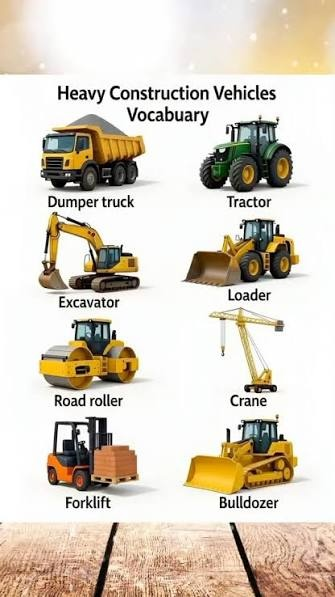crane: (198, 303, 284, 395)
excavator: (21, 208, 149, 309)
machinery: (187, 407, 319, 518), (27, 313, 156, 397), (189, 111, 312, 199), (43, 412, 143, 507), (180, 215, 312, 283)
truck: (31, 114, 147, 192)
